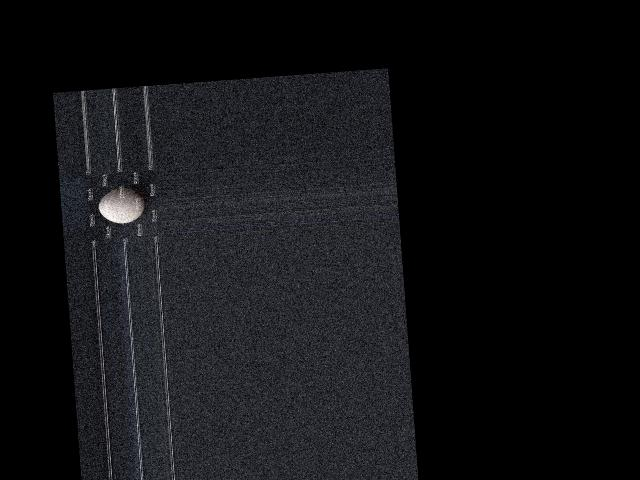egg: (97, 186, 146, 224)
